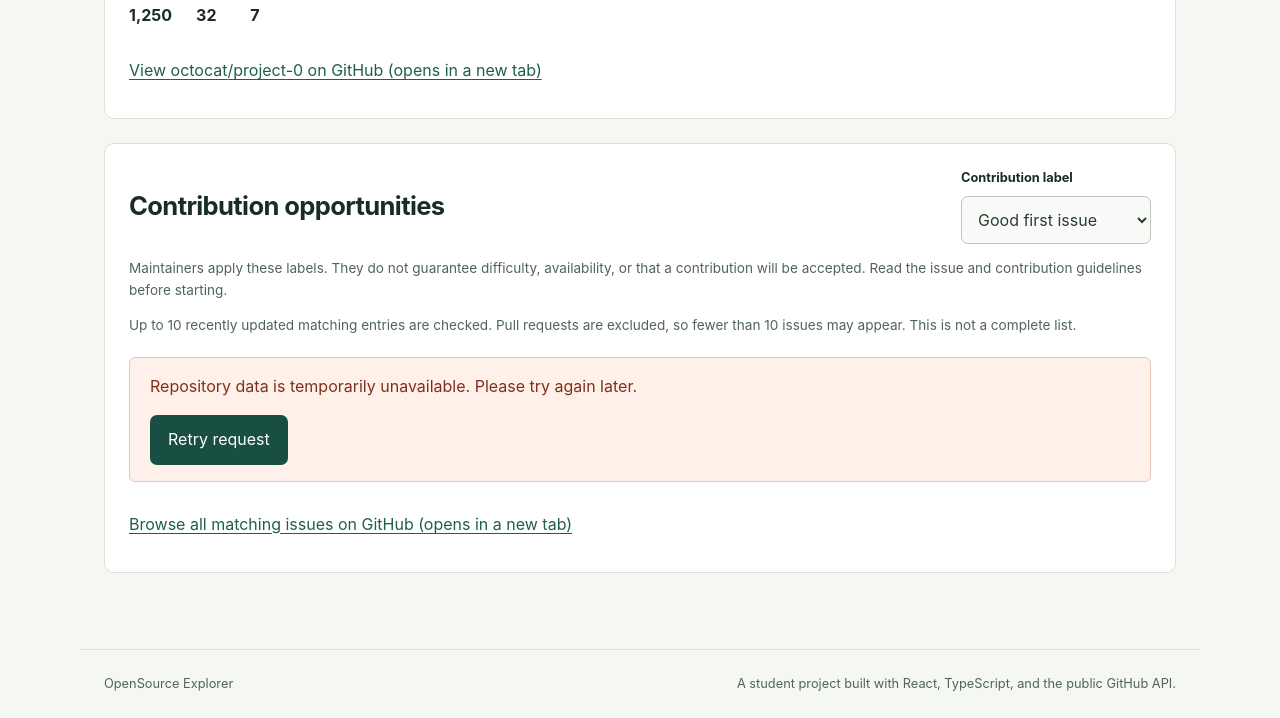
it: detail errors, cancellation, and cooldown › shows an issue failure separately from successful repository details and retries only issues
(page scrolled)
Click the button "Retry request".
click(219, 440)  # box [150, 415, 288, 465]
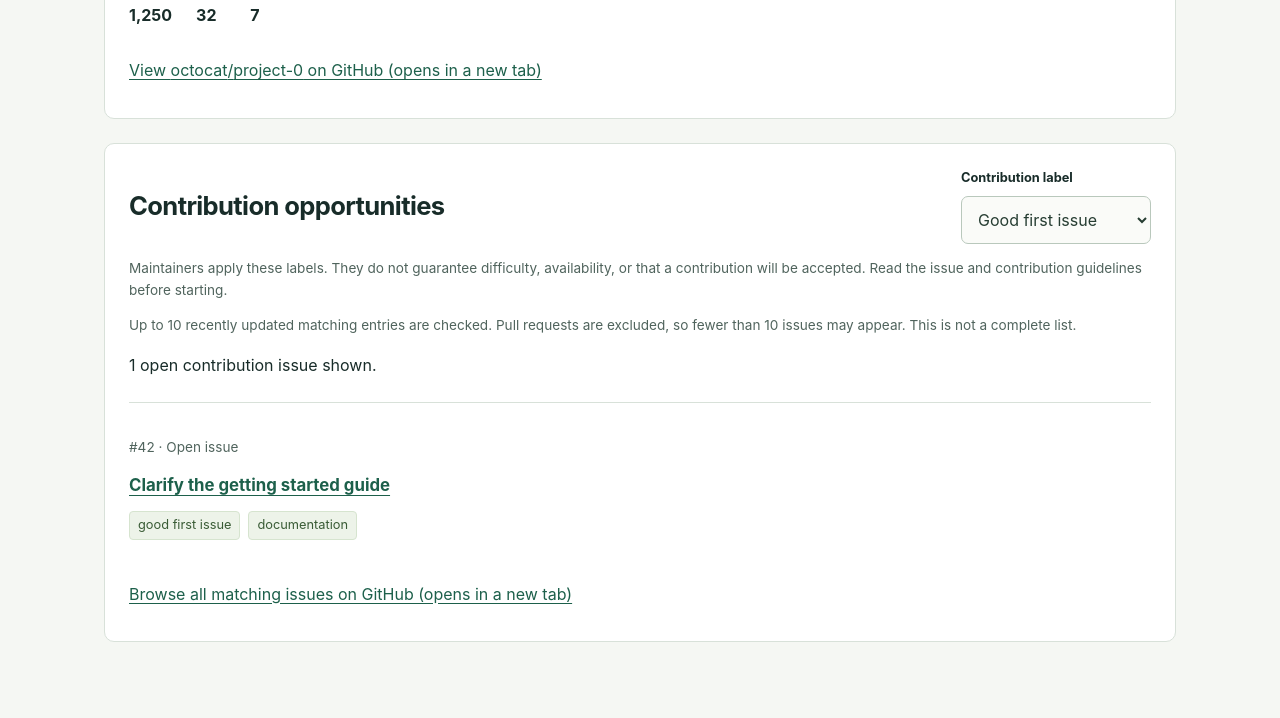
Expected: the link with aria-label "Issue #42:" is shown, [129, 475, 390, 495]
